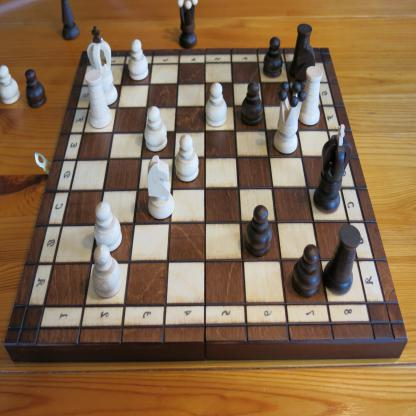black-king: (312, 124, 354, 216)
black-knight: (294, 44, 317, 92)
black-pawn: (291, 242, 322, 296), (245, 202, 272, 254), (240, 80, 264, 125), (22, 67, 47, 108), (262, 35, 284, 76)
black-queen: (176, 0, 201, 48)
black-rook: (322, 220, 362, 292), (290, 20, 312, 76)
white-king: (85, 24, 118, 106)
white-knight: (145, 154, 176, 222)
white-pawn: (90, 242, 123, 299), (92, 200, 123, 248), (174, 134, 200, 184), (204, 80, 229, 130), (144, 105, 168, 151), (127, 39, 150, 83), (1, 62, 20, 109)
white-queen: (271, 80, 306, 155)
white-rook: (83, 67, 113, 130), (297, 63, 323, 127)
